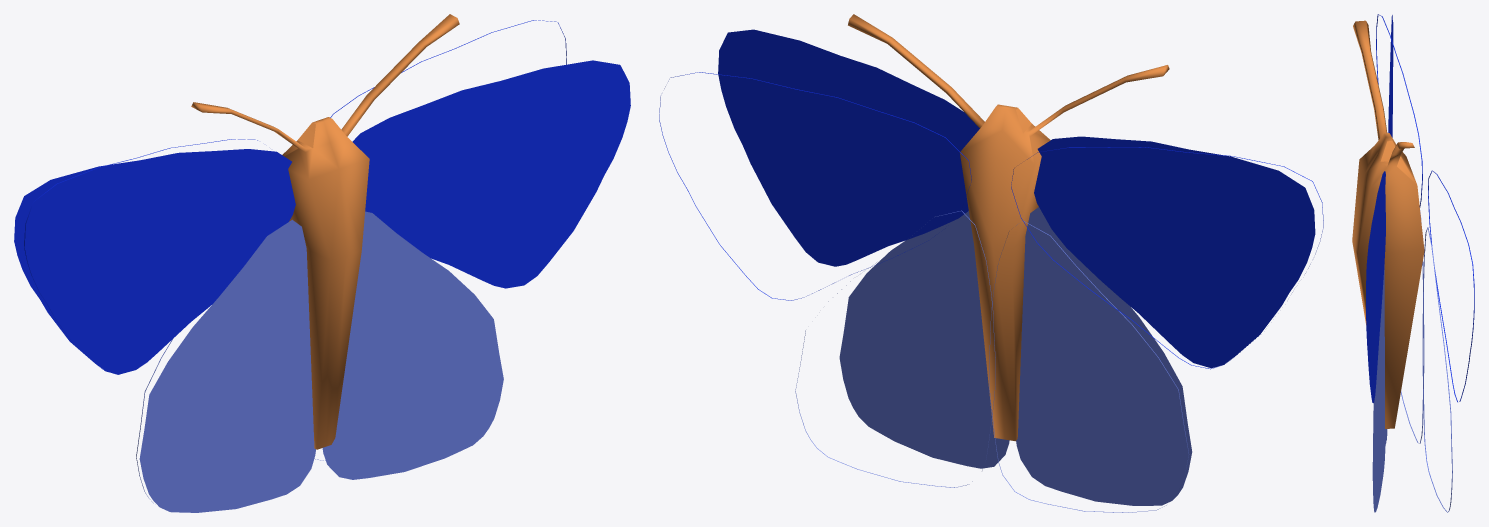
File: Blue_Butterfly.fbx
3 views of the same model, side by side, from view 1: azimuth 30°, elevation 25°; view 2: azimuth 150°, elevation 25°; view 3: azimuth 270°, elevation 25° (orthographic). The views are drawn at different scales.
Visible parts, largest first — view 1: Cube.001, Cube.003, Cube; view 2: Cube.001, Cube.003, Cube; view 3: Cube, Cube.003, Cube.001.
Part boxes in pixels (bbox=[...]): Cube.001: bbox=[14, 149, 315, 512]; Cube.003: bbox=[322, 60, 630, 479]; Cube: bbox=[24, 14, 566, 503]; Cube.001: bbox=[1016, 136, 1315, 505]; Cube.003: bbox=[718, 29, 1009, 468]; Cube: bbox=[659, 14, 1323, 512]; Cube: bbox=[1352, 14, 1474, 512]; Cube.003: bbox=[1366, 171, 1385, 512]; Cube.001: bbox=[1385, 15, 1393, 443].
Bounding box in the file's own units: 301 × 205 × 59.97.
